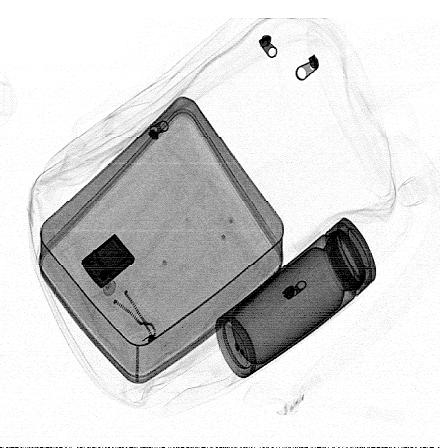Lighter: (80, 232, 136, 290)
